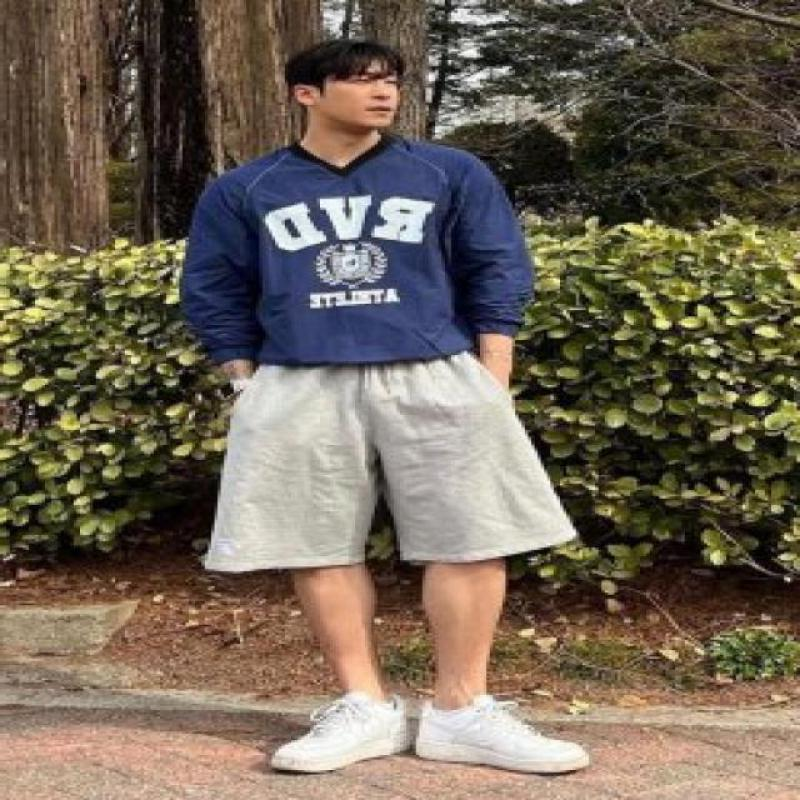Shorts: (200, 346, 582, 574)
sweater: (174, 128, 537, 369)
